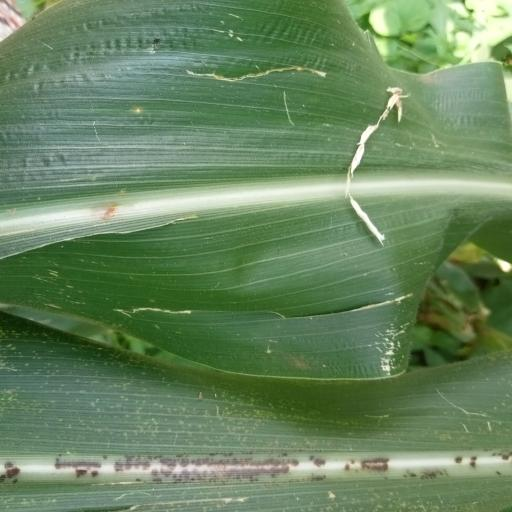Corn_Brown_Spots: (2, 0, 512, 372)
